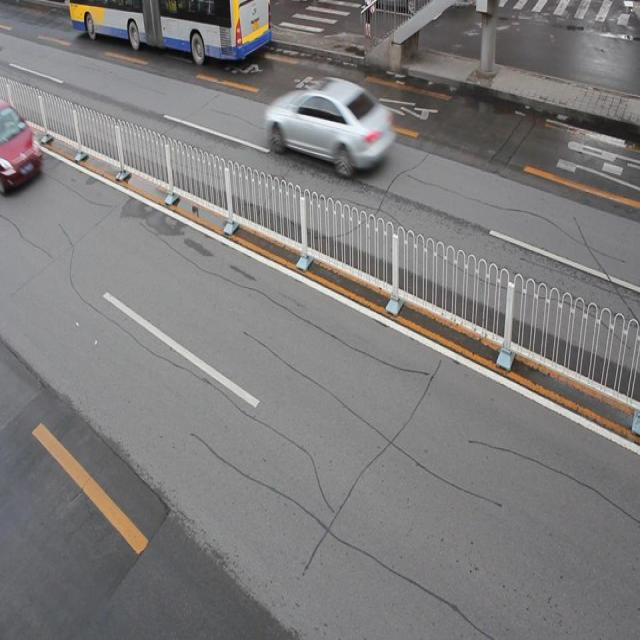car: (265, 75, 391, 173), (1, 101, 42, 196)
van: (71, 1, 272, 70)
